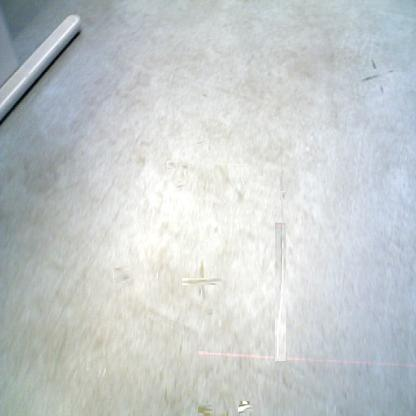liquid: (274, 222, 286, 361), (239, 402, 252, 415), (199, 402, 212, 414)
mark: (214, 164, 244, 203), (364, 62, 390, 88), (190, 269, 214, 293), (114, 267, 130, 282), (196, 137, 205, 146), (175, 181, 185, 189), (181, 162, 189, 170), (201, 92, 208, 100), (280, 191, 286, 200), (168, 161, 175, 168), (207, 145, 212, 153)
